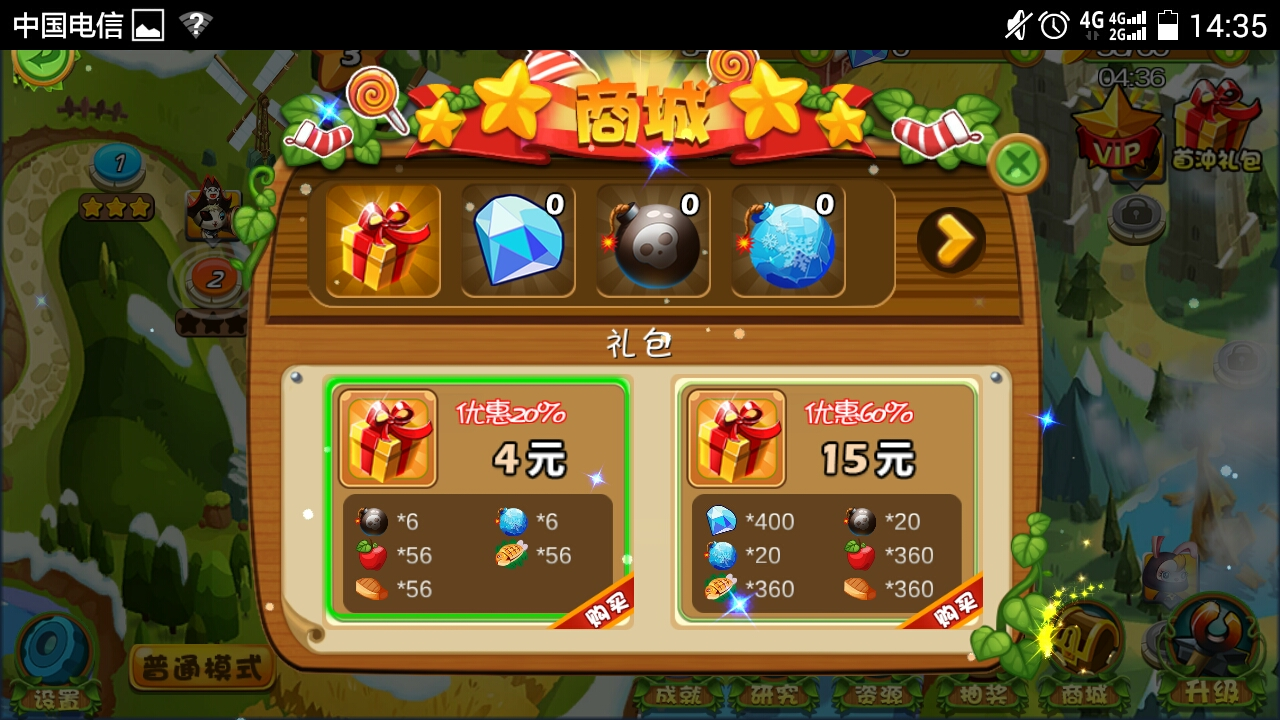imgbutton: (913, 202, 992, 282), (980, 130, 1055, 196)
textview: (666, 370, 993, 636)
